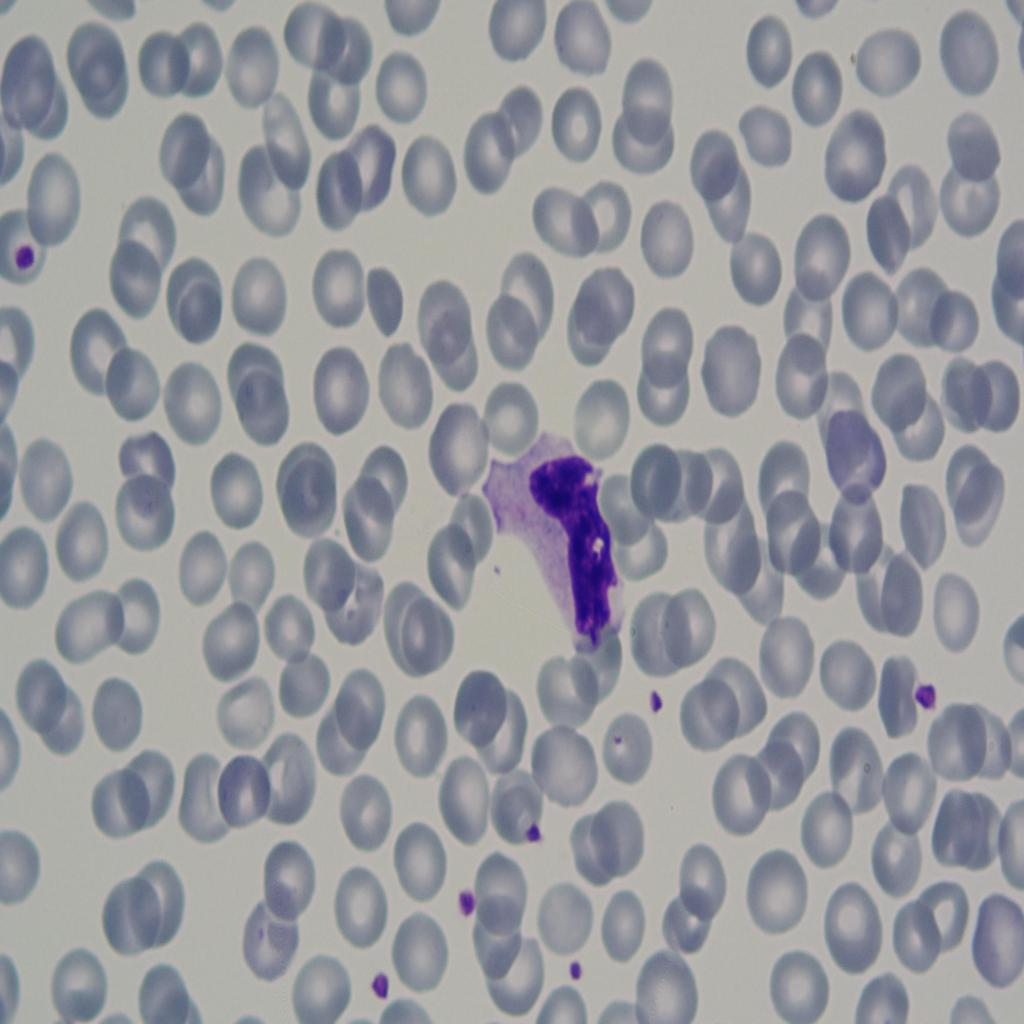Myeoblast: (491, 423, 628, 651)
Platelet: (910, 674, 943, 722), (367, 960, 396, 1010), (14, 232, 38, 279), (520, 814, 545, 856), (454, 878, 477, 922), (564, 950, 587, 988), (646, 681, 666, 720)
